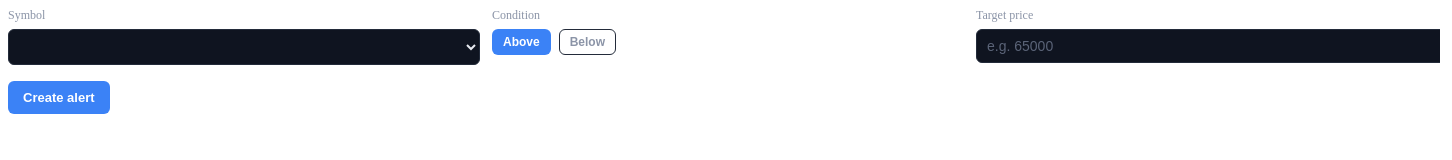
it: AlertForm › rejects a non-positive target price
In the number field labelled "Target price": (1208, 46) [976,29,1440,63], type "-5"
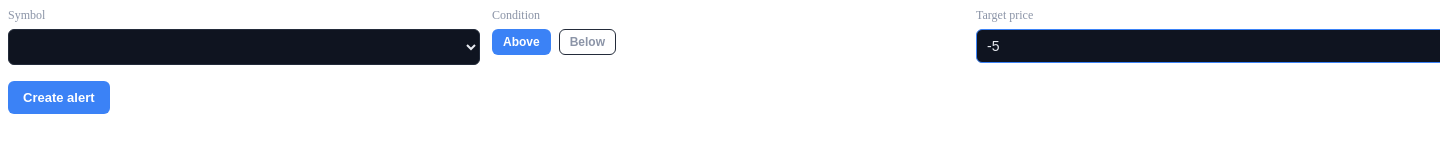
Click the button "Create alert": click(59, 98) [8,81,110,114]
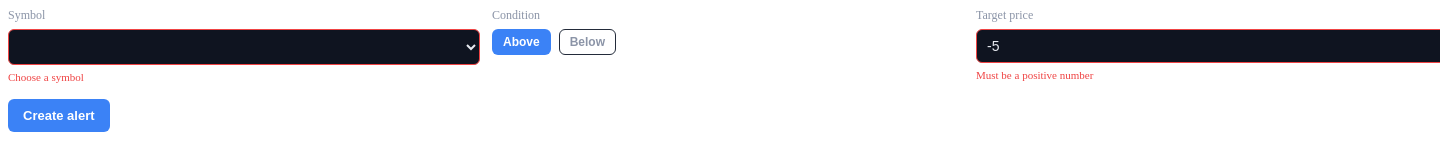
Expected: the text "Must be a positive number" is shown, [976,69,1093,81]
